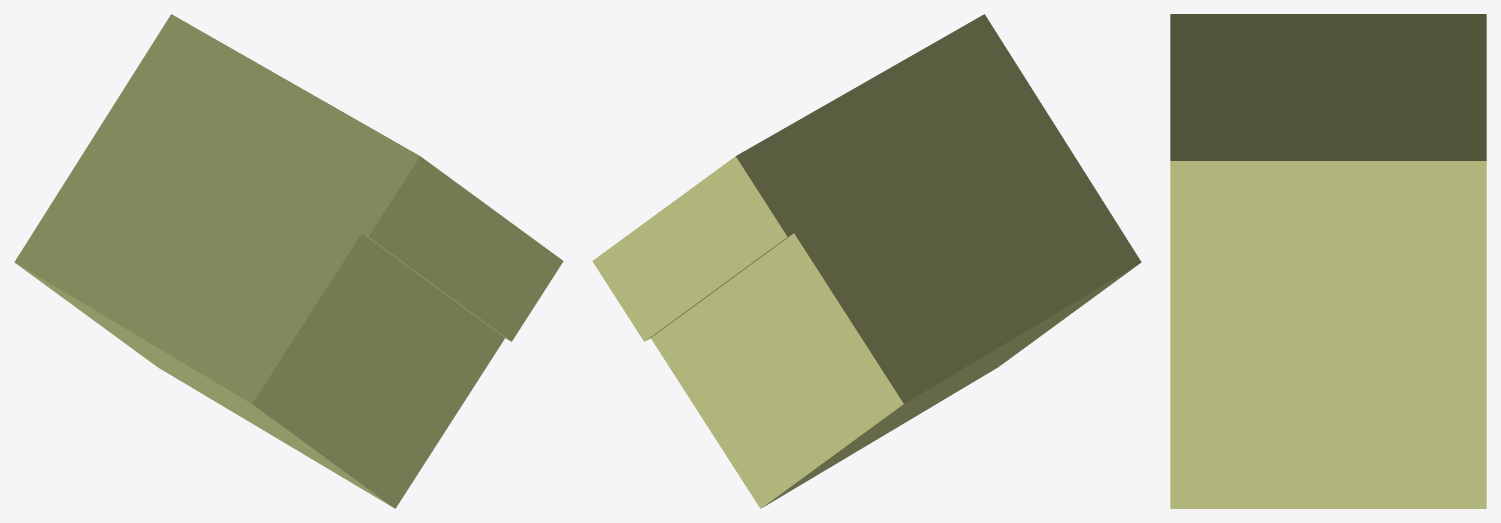
3 views of the same model, side by side, from view 1: azimuth 30°, elevation 25°; view 2: azimuth 150°, elevation 25°; view 3: azimuth 270°, elevation 25° (orthographic). The views are drawn at different scales.
Visible parts, largest first — view 1: 0_1_3_2_2_2_2_2_2_3; view 2: 0_1_3_2_2_2_2_2_2_3; view 3: 0_1_3_2_2_2_2_2_2_3.
Part boxes in pixels (box(x1,y1,x2,y2)): 0_1_3_2_2_2_2_2_2_3: box(14, 14, 563, 508); 0_1_3_2_2_2_2_2_2_3: box(592, 14, 1141, 508); 0_1_3_2_2_2_2_2_2_3: box(1170, 14, 1486, 508).
Size of the model in its own units: 14.71 by 14.19 by 9.
